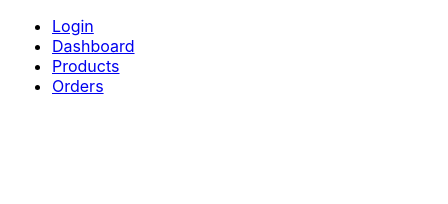
Test: Redirections and Titles Validations › Visit Login page and check title validation
Click the link to "/login".
click(73, 26)  # box [52, 16, 94, 36]
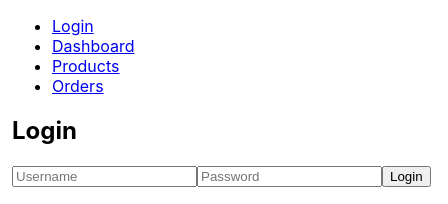
Result: the heading "Login" is shown at [12, 116, 77, 145]
